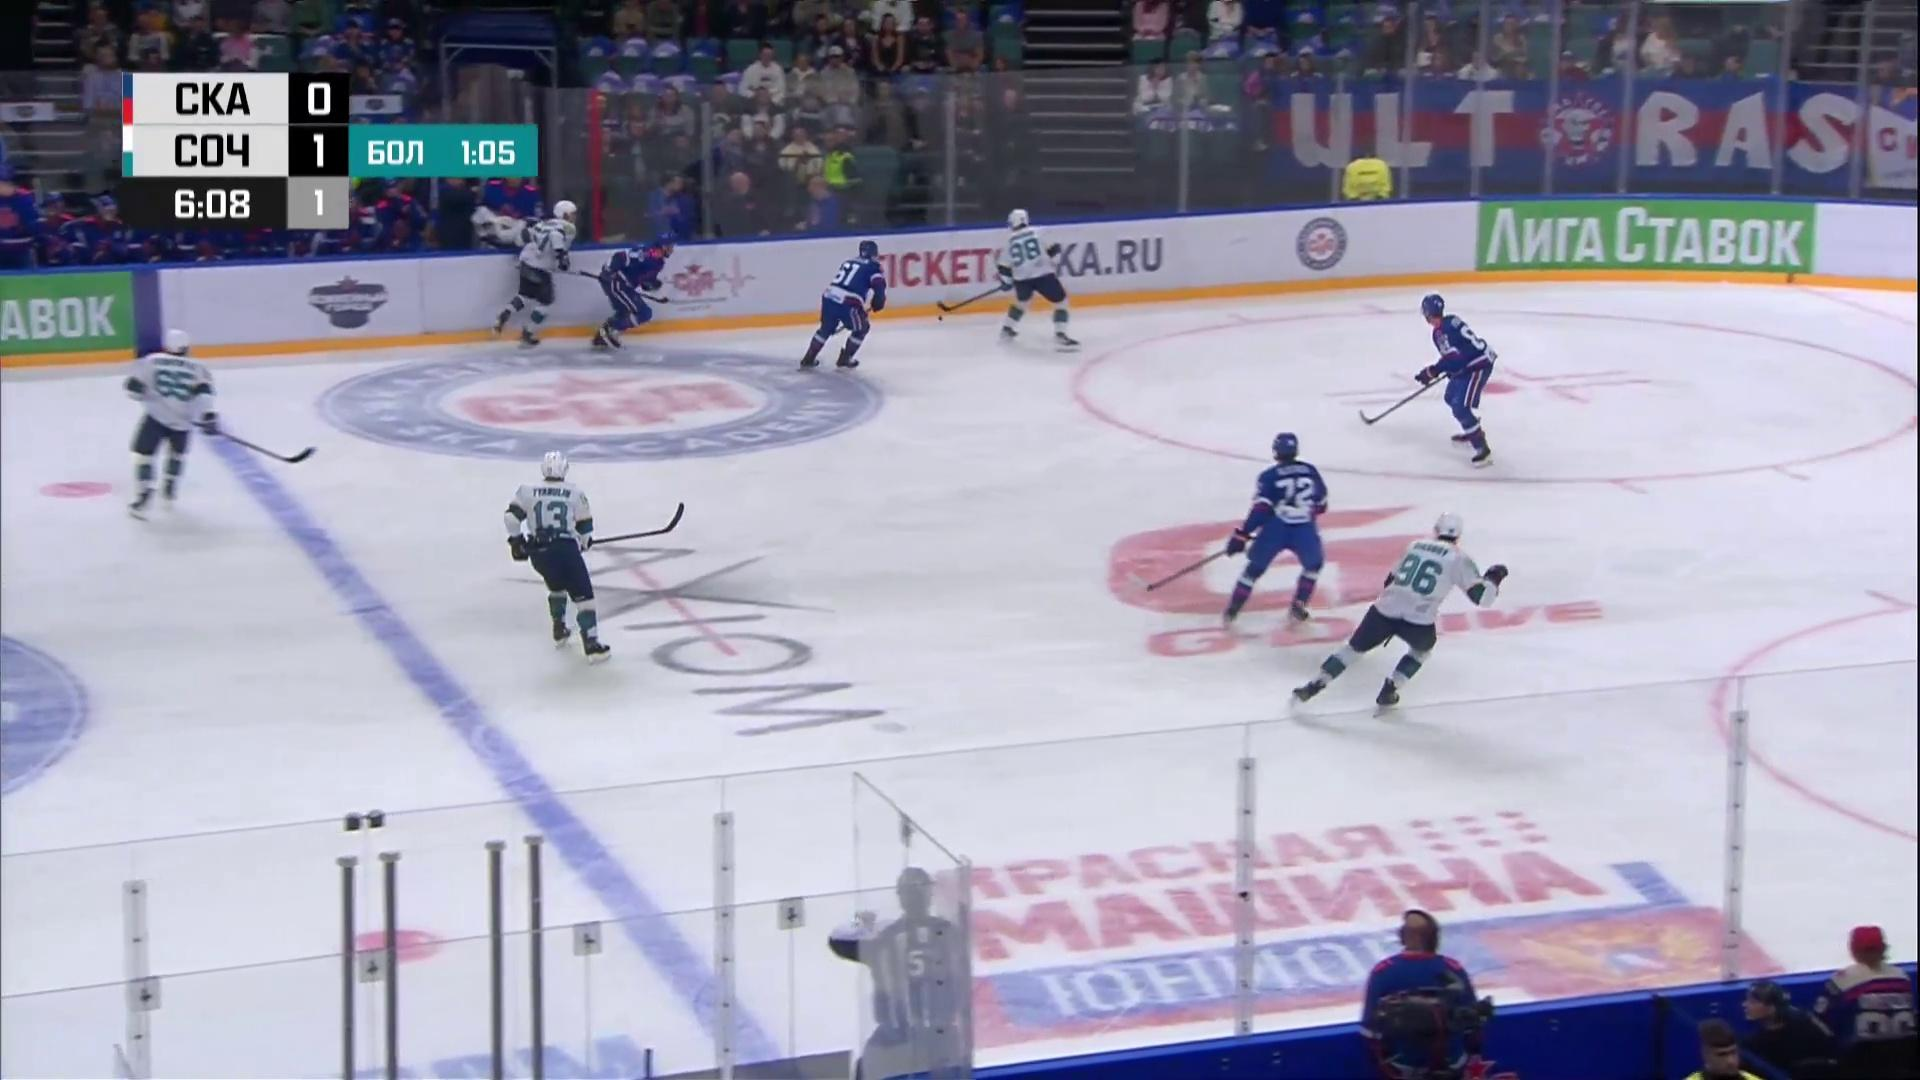ball: (938, 315, 943, 322)
